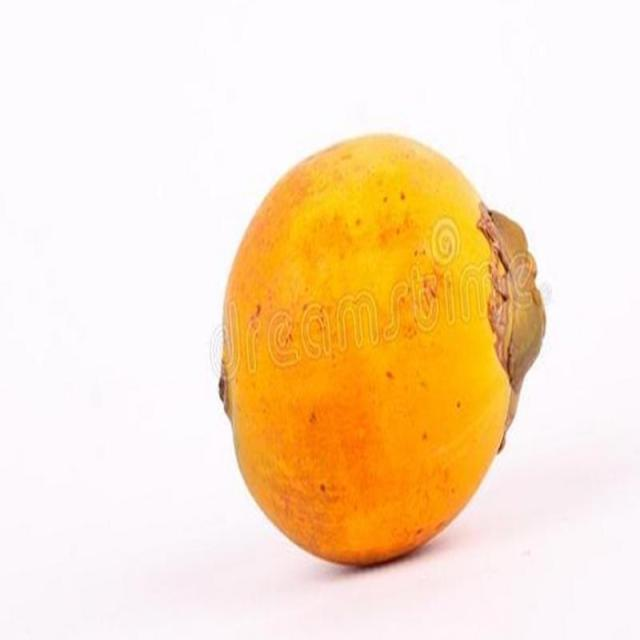good: (218, 133, 546, 569)
